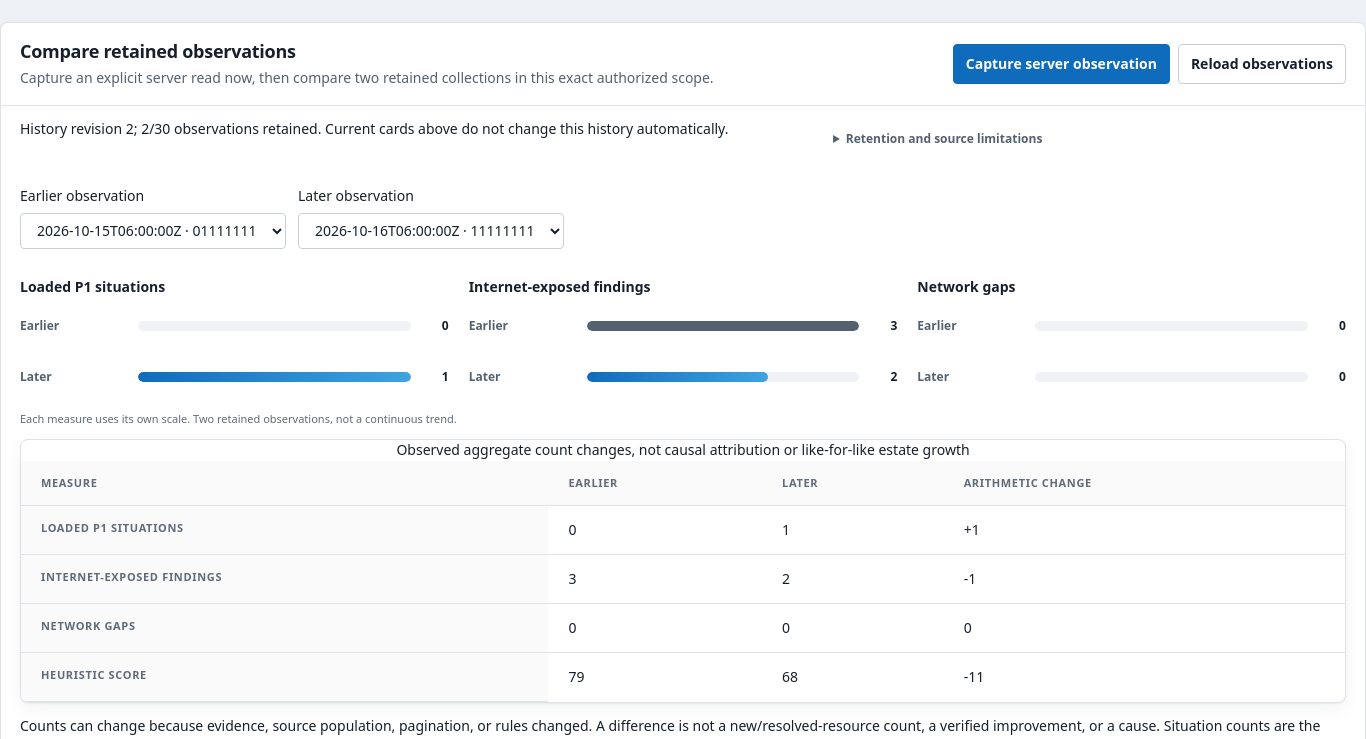
Test case: Retained Overview comparisons › retains reviewed comparison on capture conflict without claiming success
Expected: the text "History revision 2" is shown, [20,118,809,141]
Click the button "Capture server observation".
click(1061, 64)  # box [953,44,1170,84]
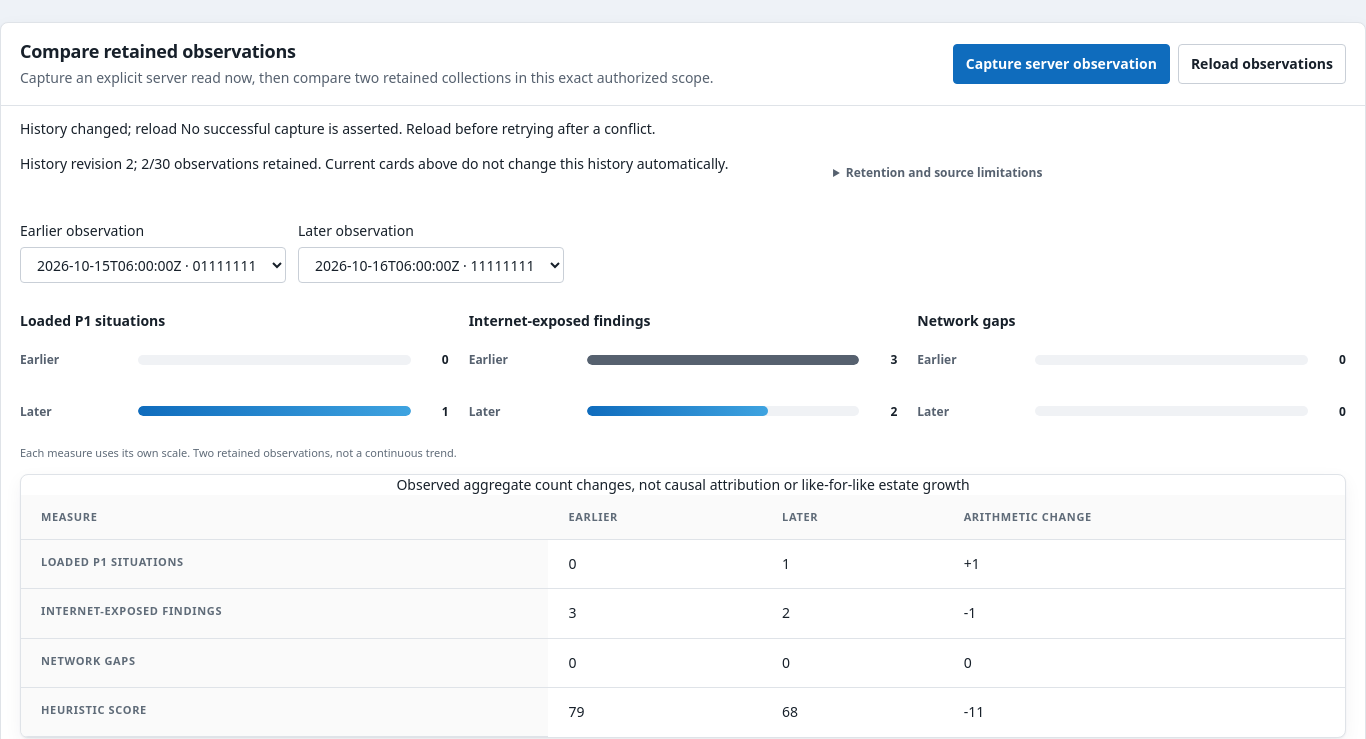
Expected: the text "History revision 2" is shown, [20,153,809,175]
Expected: the message is shown, [20,119,656,138]
